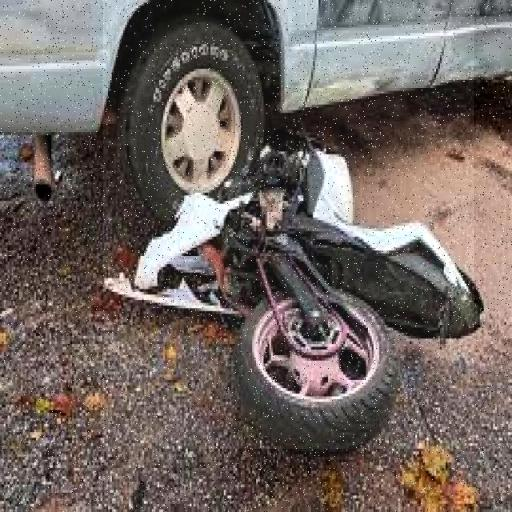小汽车撞自行车: (103, 0, 474, 449)
